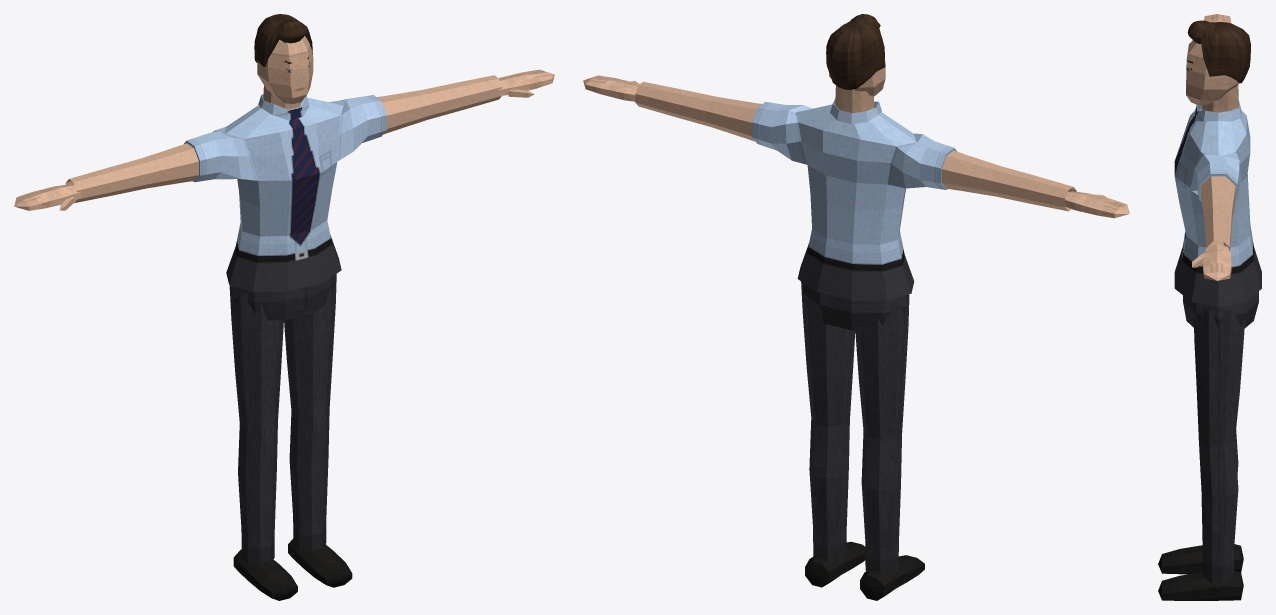
File: Ryan_fuer_Mixamo.fbx
3 views of the same model, side by side, from view 1: azimuth 30°, elevation 25°; view 2: azimuth 150°, elevation 25°; view 3: azimuth 270°, elevation 25° (orthographic).
Parts seen in each view (by area): view 1: Ryan_Mesh; view 2: Ryan_Mesh; view 3: Ryan_Mesh.
Boxes of the visible parts, bbox=[...] form: Ryan_Mesh: bbox=[14, 14, 554, 600]; Ryan_Mesh: bbox=[583, 14, 1129, 600]; Ryan_Mesh: bbox=[1158, 14, 1261, 600].
Bounding box in the file's own units: 1.84 × 1.81 × 0.3028.
Materials: 1 (1 with a texture image).
